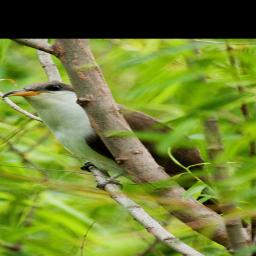Cuckoo: (0, 80, 256, 229)
